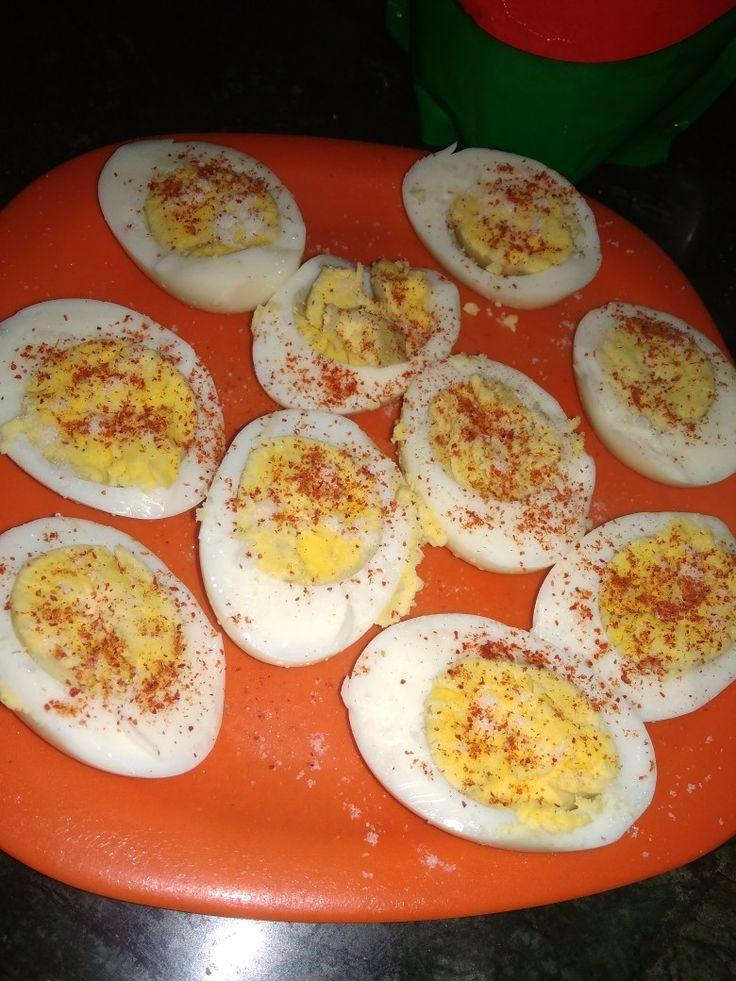eggs: (28, 146, 736, 812)
